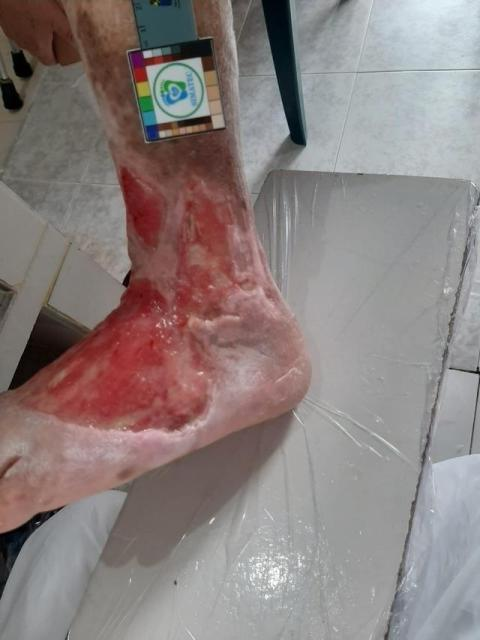wound: (13, 185, 285, 435), (118, 161, 169, 255)
